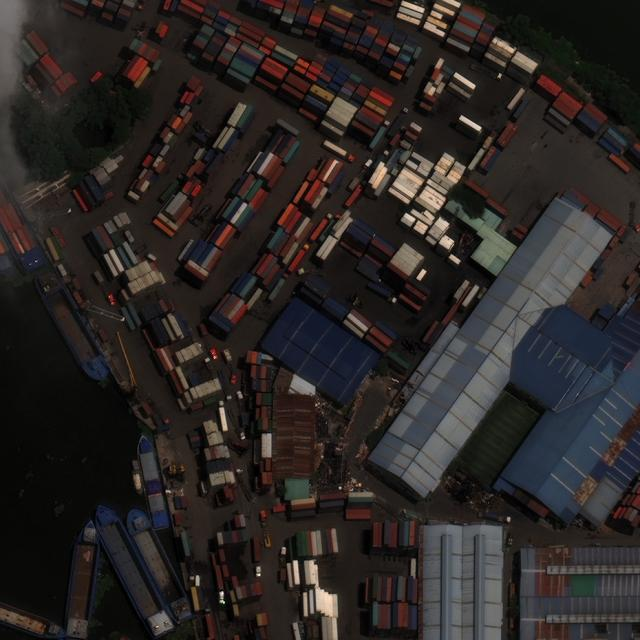Cargo: (86, 499, 175, 639), (32, 267, 114, 388), (121, 505, 198, 628), (63, 518, 103, 639), (134, 433, 173, 533)
Container Ship: (1, 603, 67, 639)
Other Ship: (129, 458, 147, 498)
